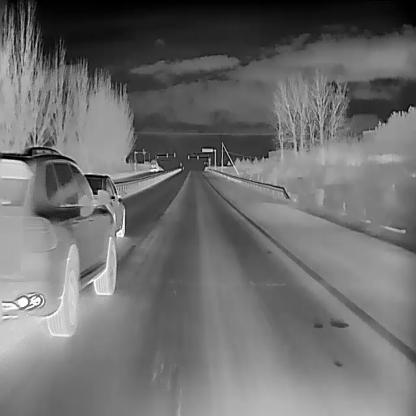car: (0, 145, 116, 335), (80, 173, 127, 237), (149, 157, 158, 171)
